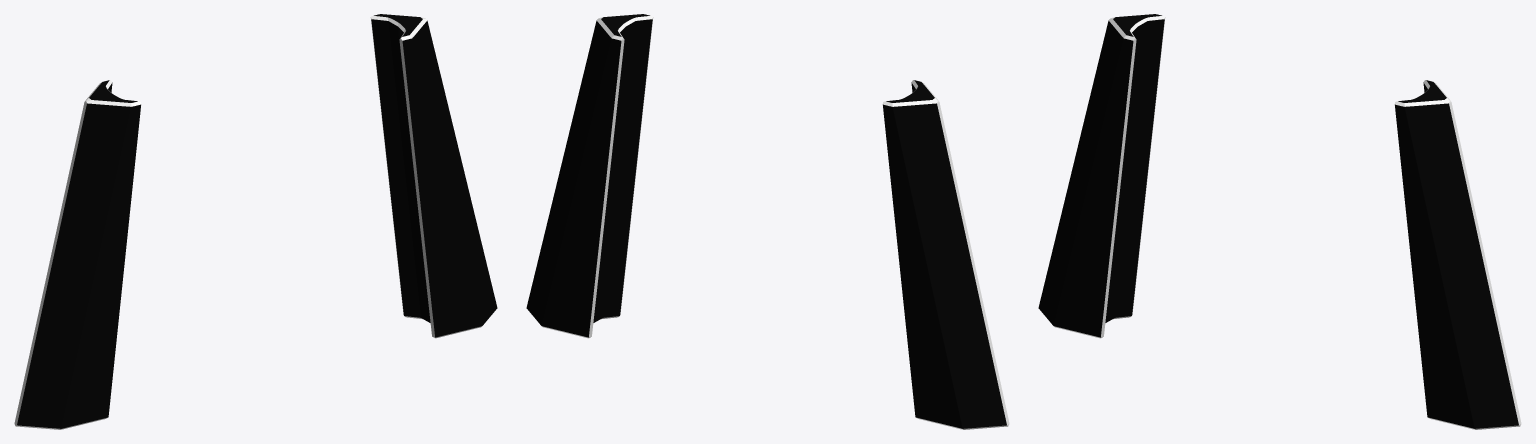
The model's file is Catapult.obj.
3 renders of one model, left to right at view 1: azimuth 30°, elevation 25°; view 2: azimuth 150°, elevation 25°; view 3: azimuth 330°, elevation 25°, orthographic.
Visible parts, largest first — view 1: 立方体; view 2: 立方体; view 3: 立方体.
Boxes of the visible parts, left/top/right/bottom form: 立方体: left=14, top=14, right=497, bottom=429; 立方体: left=526, top=14, right=1009, bottom=429; 立方体: left=1038, top=14, right=1521, bottom=429.
Bounding box in the file's own units: 3.25 × 2 × 0.3724.
Materials: 1 (1 with a texture image).
